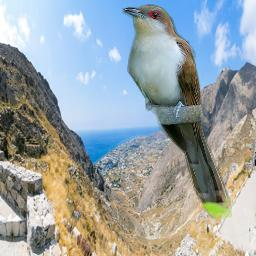Cuckoo: (122, 4, 232, 219)
